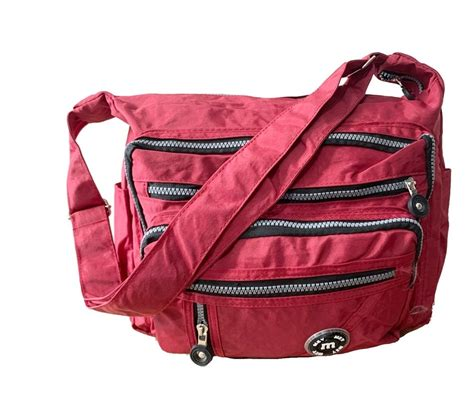nylon: (65, 52, 452, 359)
